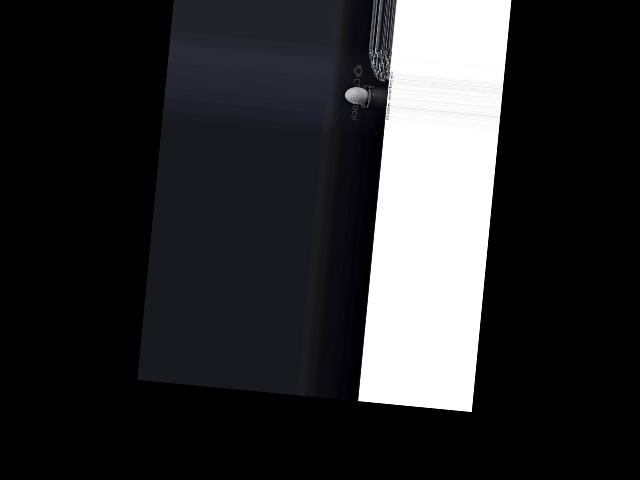egg: (344, 86, 369, 105)
